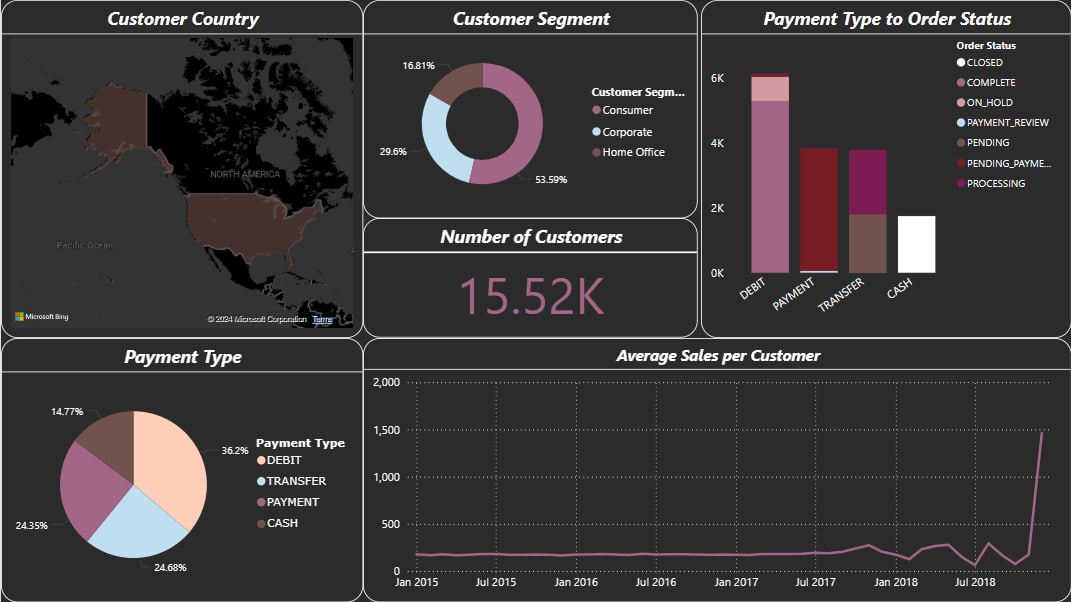

What the dashboard file says about the page in this screenshot:
{"tool":"powerbi","page":{"name":"Customers","canvas":[1280,720],"ordinal":0},"visuals":[{"type":"filledMap","title":"Customer Country","fields":{"Category":["Working Sheet.customer_country"]},"box":[0,0,432.6,404],"z":0},{"type":"pieChart","title":"Payment Type","fields":{"Category":["Working Sheet.payment_type"],"Y":["Count(Working Sheet.product_category_id)"]},"box":[0,404,432.6,315.5],"z":1000},{"type":"card","title":"Number of Customers","fields":{"Values":["Count(Working Sheet.customer_id)"]},"box":[432.6,260.5,400.4,143.4],"z":2000},{"type":"lineChart","title":"Average Sales per Customer","fields":{"Category":["Working Sheet.order_date.Variation.Date Hierarchy.Year","Working Sheet.order_date.Variation.Date Hierarchy.Quarter","Working Sheet.order_date.Variation.Date Hierarchy.Month"],"Y":["Avg(Working Sheet.sales_per_customer)"]},"box":[432.6,404,847.4,315.5],"z":3000},{"type":"donutChart","title":"Customer Segment","fields":{"Y":["Count(Working Sheet.customer_id)"],"Category":["Working Sheet.customer_segment"]},"box":[432.6,0,400.4,260.5],"z":4000},{"type":"columnChart","title":"Payment Type to Order Status","fields":{"Series":["Working Sheet.order_status"],"Y":["Count(Working Sheet.order_item_id)"],"Category":["Working Sheet.payment_type"]},"box":[836.6,0,443.4,404],"z":5000}]}

Visuals, with their boxes in screenshot pixels (x1, y1, x2, y2), scaled from the page's 1280x720 canvas onto the 1071x602 screenshot:
"Customer Country" filledMap: <region>0, 0, 362, 338</region>
"Payment Type" pieChart: <region>0, 338, 362, 601</region>
"Number of Customers" card: <region>362, 218, 697, 338</region>
"Average Sales per Customer" lineChart: <region>362, 338, 1070, 601</region>
"Customer Segment" donutChart: <region>362, 0, 697, 218</region>
"Payment Type to Order Status" columnChart: <region>700, 0, 1070, 338</region>
